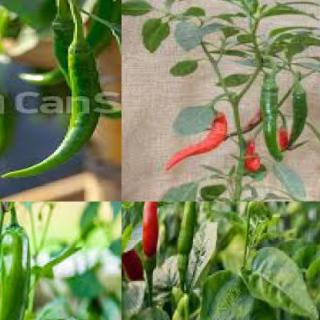green_chilli: (0, 42, 100, 180), (18, 0, 120, 83), (0, 228, 33, 319), (255, 74, 286, 164), (283, 78, 317, 149), (52, 15, 75, 88), (176, 201, 200, 267)
